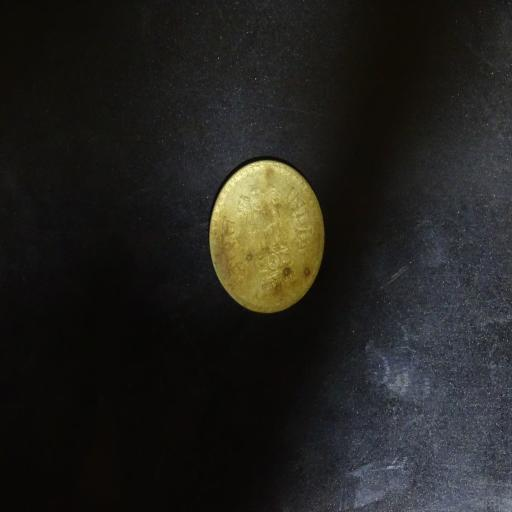rupee5: (208, 157, 327, 316)
